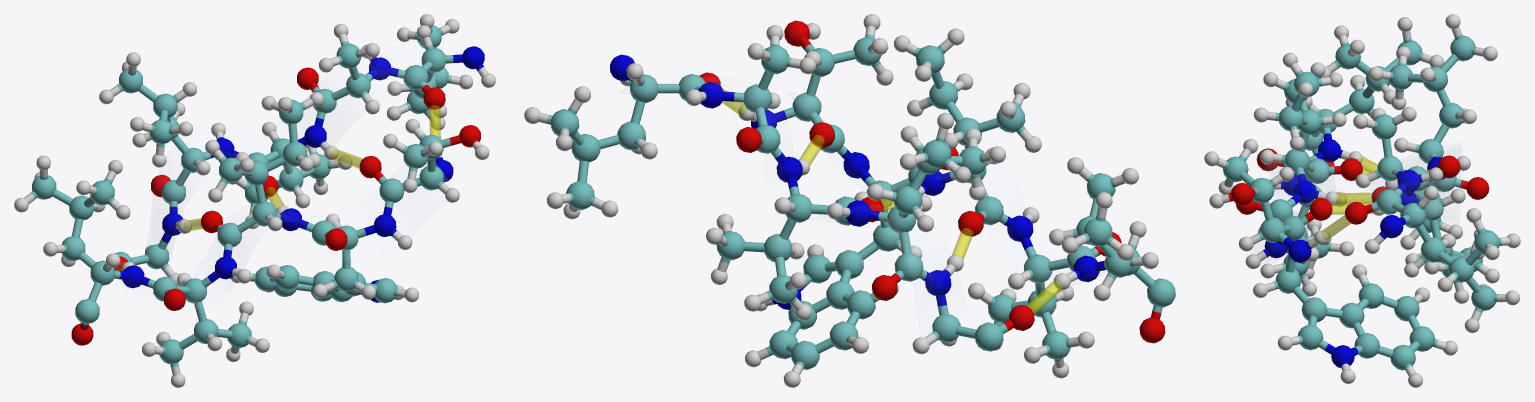
The model's file is 8_beta_sheet_-_model_8.glb.
3 views of the same model, side by side, from view 1: azimuth 30°, elevation 25°; view 2: azimuth 150°, elevation 25°; view 3: azimuth 270°, elevation 25° (orthographic). The views are drawn at different scales.
Parts seen in each view (by area): view 1: Object_4, Object_8, Object_2, Object_3, Object_7; view 2: Object_4, Object_8, Object_2, Object_3, Object_7; view 3: Object_4, Object_8, Object_2, Object_3, Object_9, Object_7.
Boxes of the visible parts, x1,y1,x2,y2 form: Object_4: (30, 25, 453, 367); Object_8: (14, 14, 495, 387); Object_2: (119, 46, 484, 302); Object_3: (71, 67, 480, 345); Object_7: (116, 105, 440, 270); Object_4: (547, 34, 1175, 369); Object_8: (524, 14, 1158, 387); Object_2: (610, 54, 1106, 309); Object_3: (699, 20, 1165, 343); Object_7: (722, 88, 1062, 314); Object_4: (1222, 34, 1501, 370); Object_8: (1204, 14, 1520, 387); Object_2: (1263, 133, 1445, 368); Object_3: (1228, 148, 1489, 224); Object_9: (1253, 144, 1460, 261); Object_7: (1321, 156, 1377, 240).
Size of what is drawn, in the model's own units: 1.69 by 0.928 by 0.9464.
